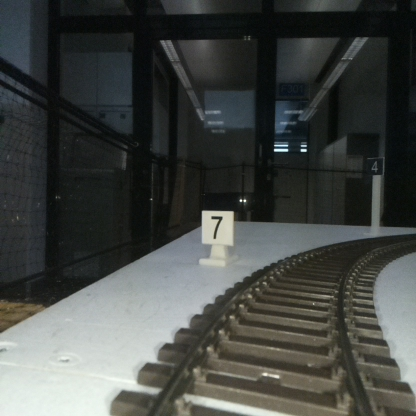black-info-4: (367, 158, 383, 232)
white-stop-7: (202, 211, 232, 263)
